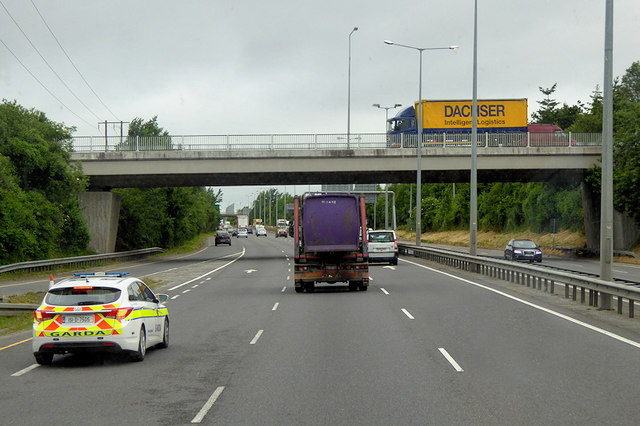bridge: (61, 130, 618, 189)
